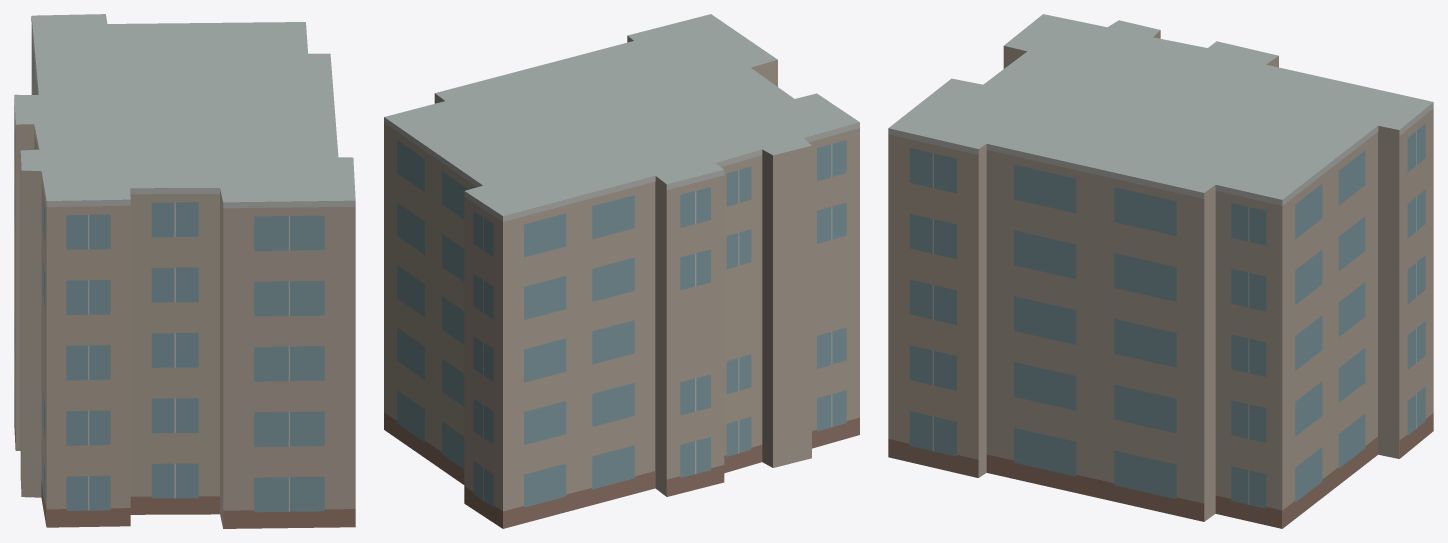
File: survey-upis-32706620.glb
The picture shows the model from 3 angles, left to right: view 1: azimuth 30°, elevation 25°; view 2: azimuth 150°, elevation 25°; view 3: azimuth 270°, elevation 25°; orthographic projection. The views are drawn at different scales.
Parts seen in each view (by area): view 1: survey-upis-32706620.tmp; view 2: survey-upis-32706620.tmp; view 3: survey-upis-32706620.tmp.
Boxes of the visible parts, x1,y1,x2,y2 form: survey-upis-32706620.tmp: [14, 14, 355, 528]; survey-upis-32706620.tmp: [384, 14, 859, 528]; survey-upis-32706620.tmp: [888, 14, 1433, 528].
Size of the model in its own units: 16 by 13.2 by 19.84.
